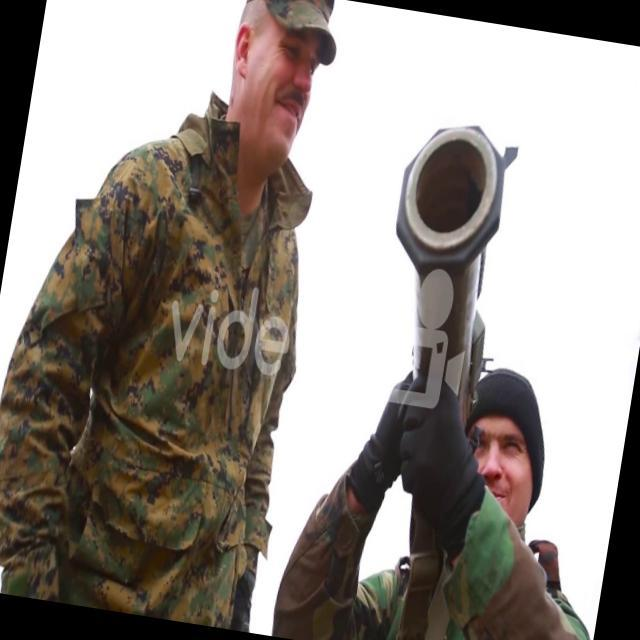rocket: (368, 107, 516, 417)
